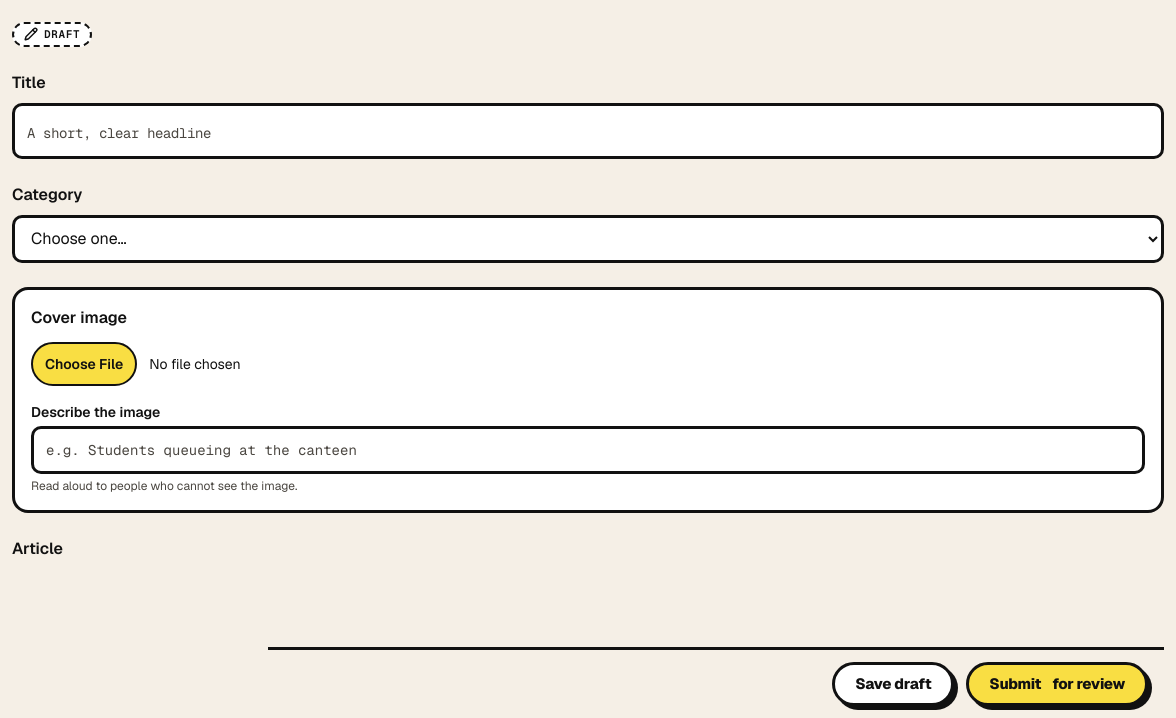
ArticleEditor › a new article cannot be submitted empty
Step 1. Click the button "Submit for review" → (1057, 684), box [966, 662, 1148, 706]
(page scrolled)
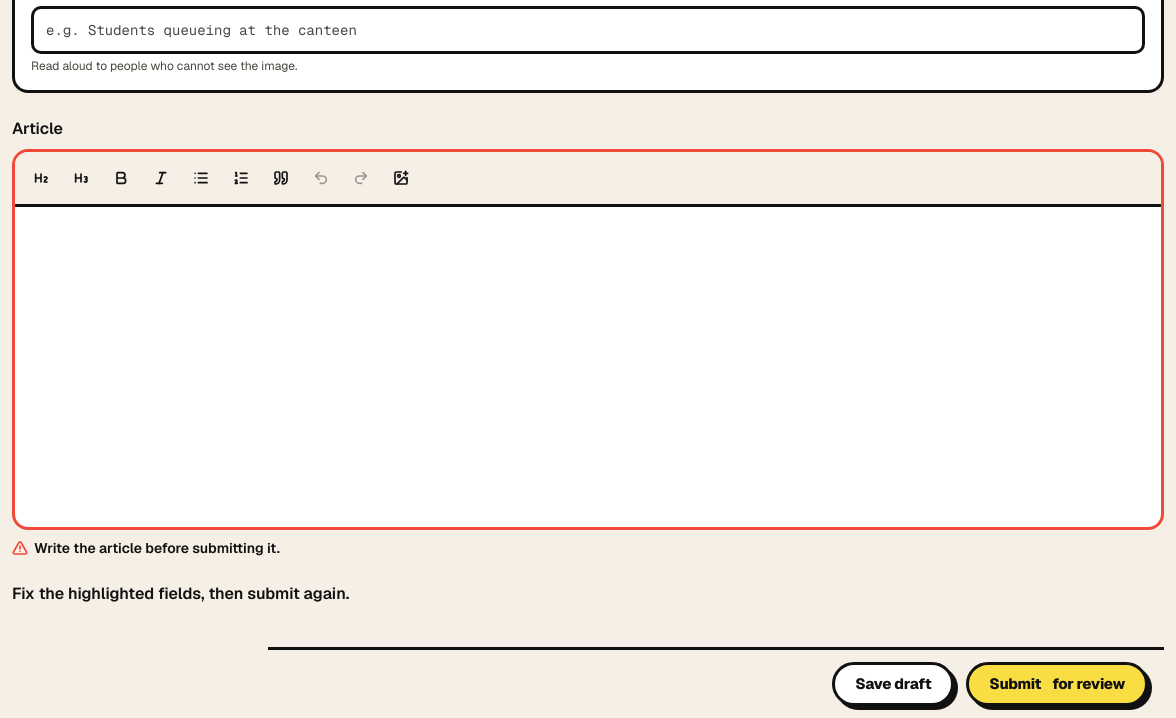
Check: the message shows "Fix the highlighted fields", box [12, 582, 350, 604]
